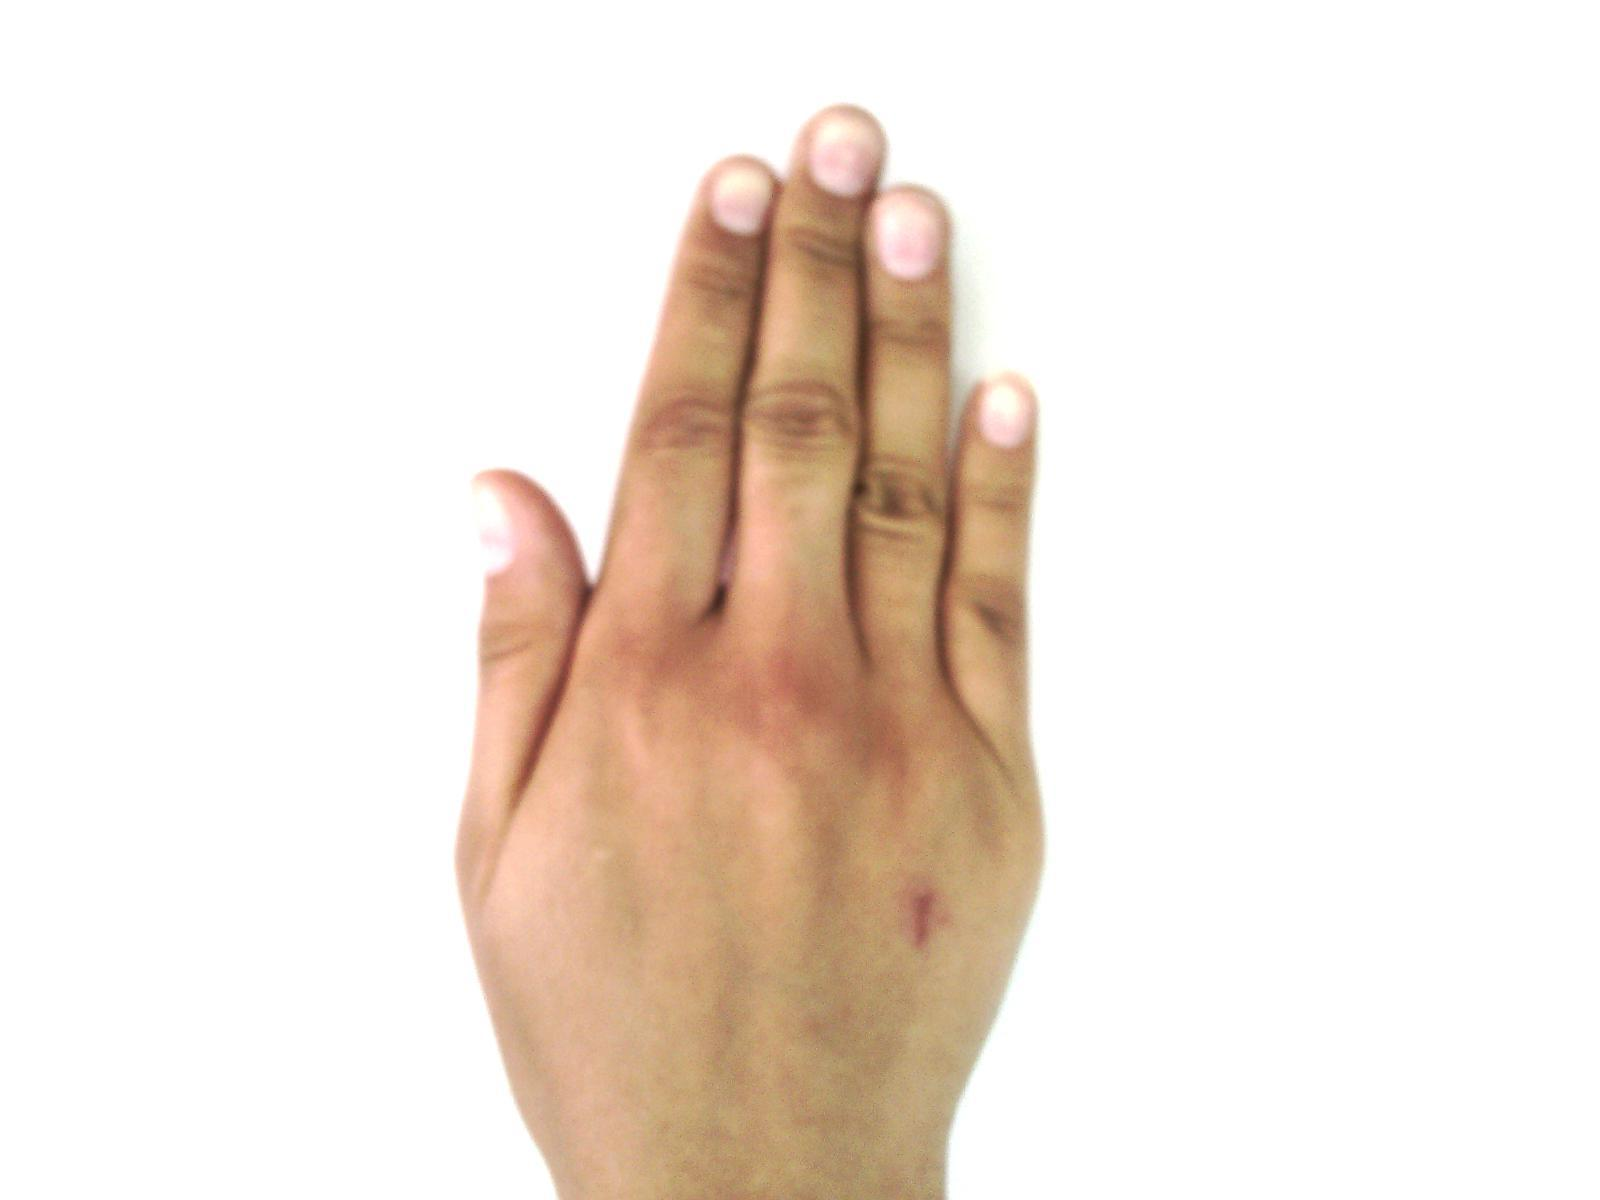hand: (438, 96, 1056, 1200)
